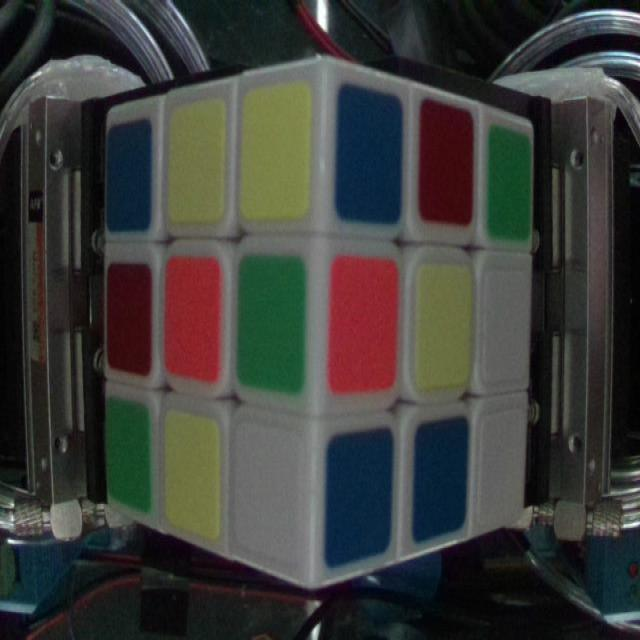b: (327, 434, 392, 562), (343, 89, 401, 219), (415, 426, 466, 534), (108, 124, 146, 228)
g: (241, 253, 301, 380), (106, 403, 147, 504), (493, 129, 528, 236)
o: (334, 261, 397, 388), (167, 259, 219, 381)
r: (422, 97, 473, 219), (108, 266, 147, 370)
w: (237, 425, 296, 552), (488, 276, 531, 385), (484, 420, 526, 517)
y: (245, 92, 308, 223), (165, 413, 219, 535), (417, 267, 470, 388), (171, 110, 224, 226)
